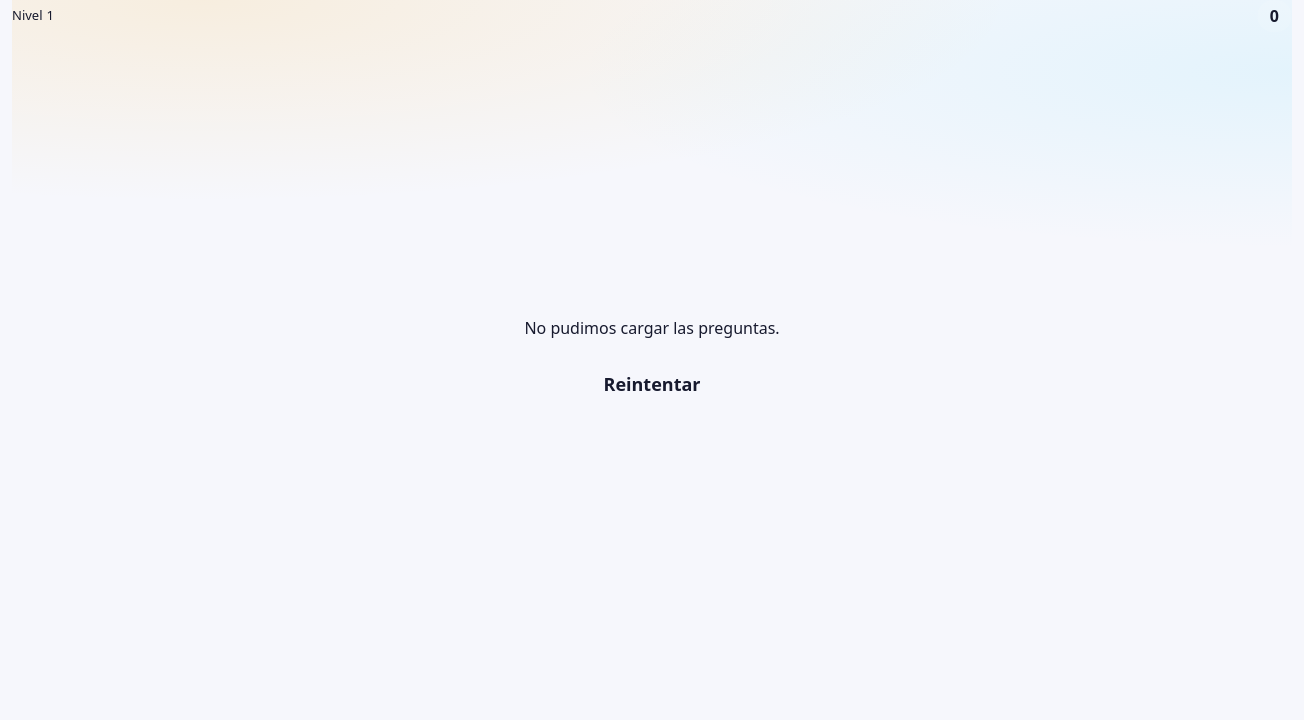
it: shows an error and retries when questions cannot load
Later steps or results of the test are not shown.
expect the text "No pudimos cargar las preguntas." is shown: met, box [524, 316, 780, 340]
Click the button "Reintentar": (652,384) [460, 356, 844, 412]
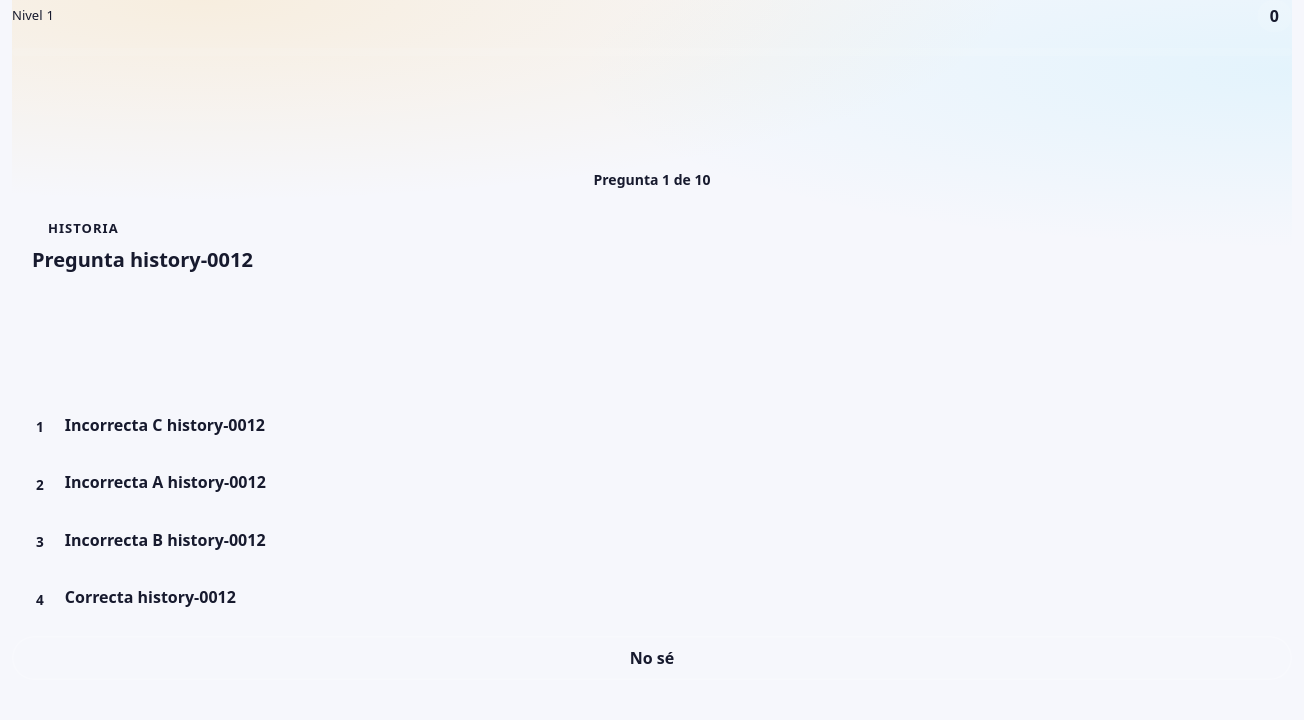
expect the text "Pregunta 1 de 10" is shown: met, box [594, 170, 710, 189]
